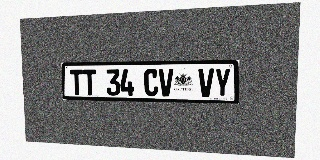3: (106, 69, 120, 96)
4: (120, 69, 134, 96)
C: (144, 69, 158, 96)
T: (70, 69, 83, 95), (83, 69, 96, 95)
V: (198, 68, 214, 97), (159, 69, 173, 96)
Y: (214, 68, 231, 97)
